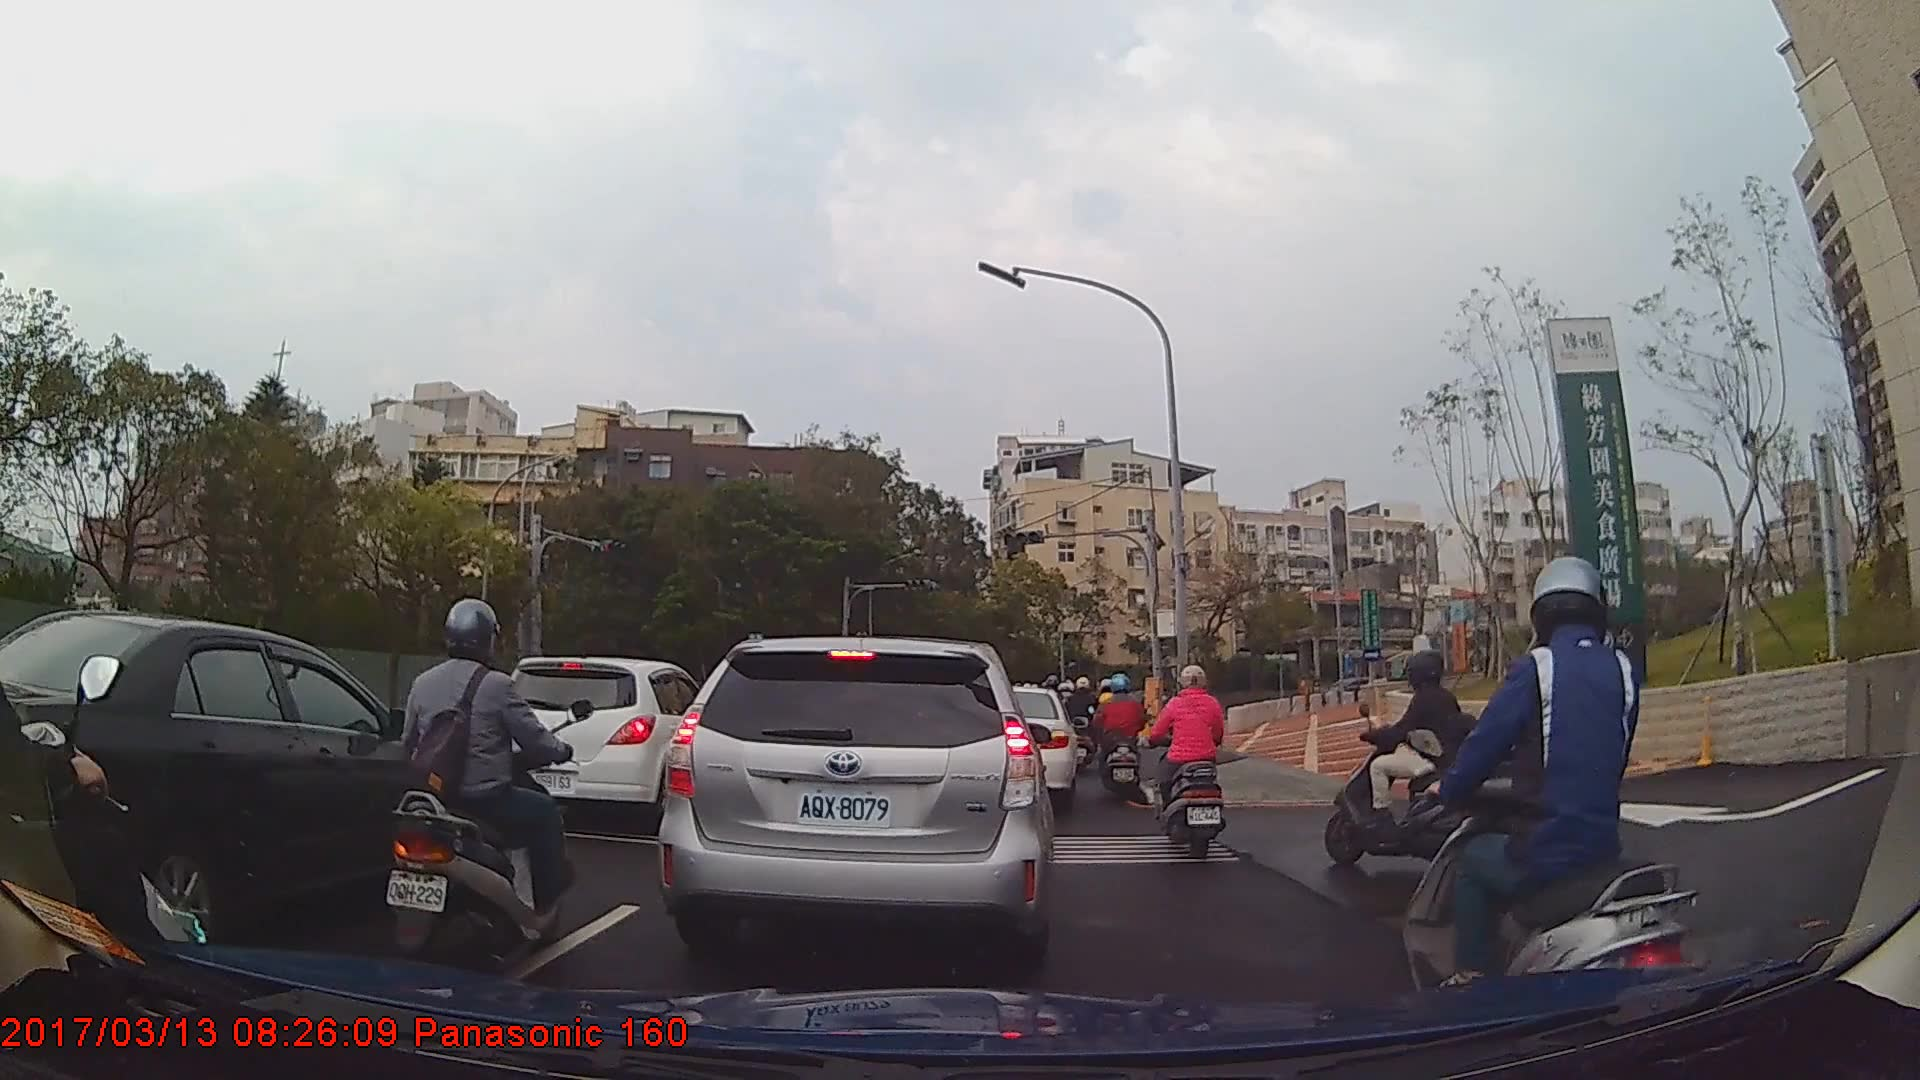rider: (1400, 556, 1706, 1057), (382, 597, 578, 980), (1324, 655, 1513, 870), (1154, 661, 1225, 860), (1091, 669, 1150, 807), (1069, 674, 1106, 774)
vehicle: (2, 608, 476, 945), (655, 634, 1053, 975), (477, 655, 720, 832), (963, 686, 1078, 809)
